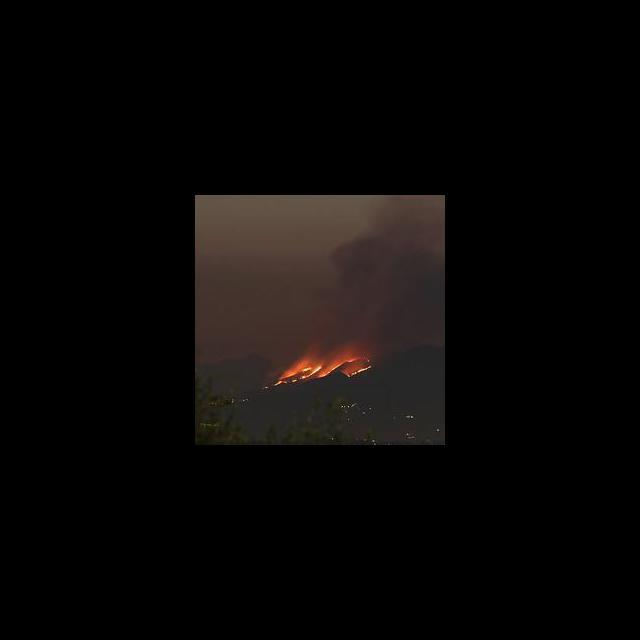Fire: (271, 354, 374, 384)
Smoke: (304, 200, 440, 350)
